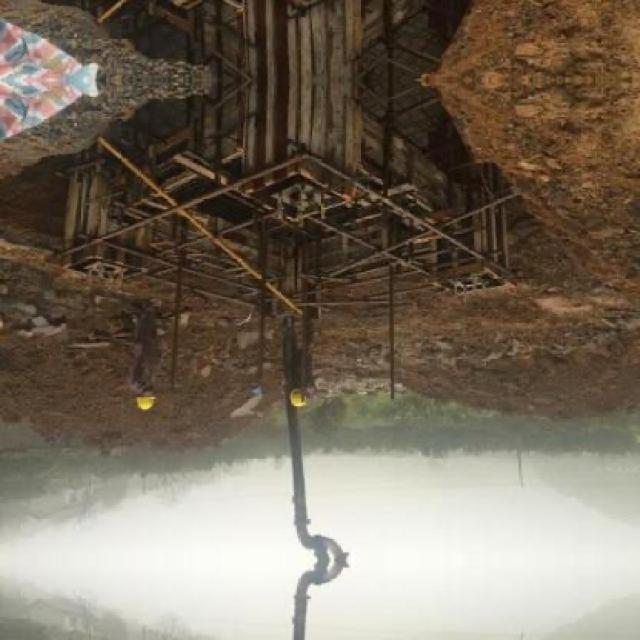con casco: (108, 384, 171, 432), (282, 370, 332, 430)
